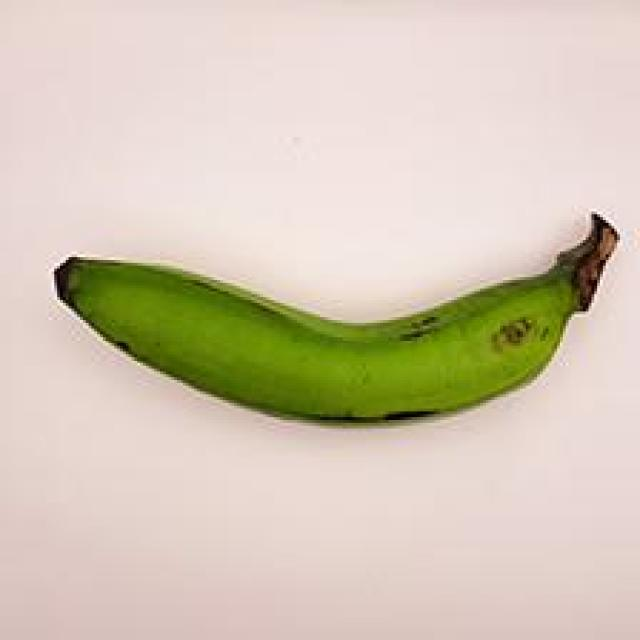Raw: (35, 198, 627, 437)
